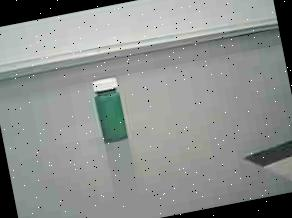Bottle C: (84, 70, 143, 156)
